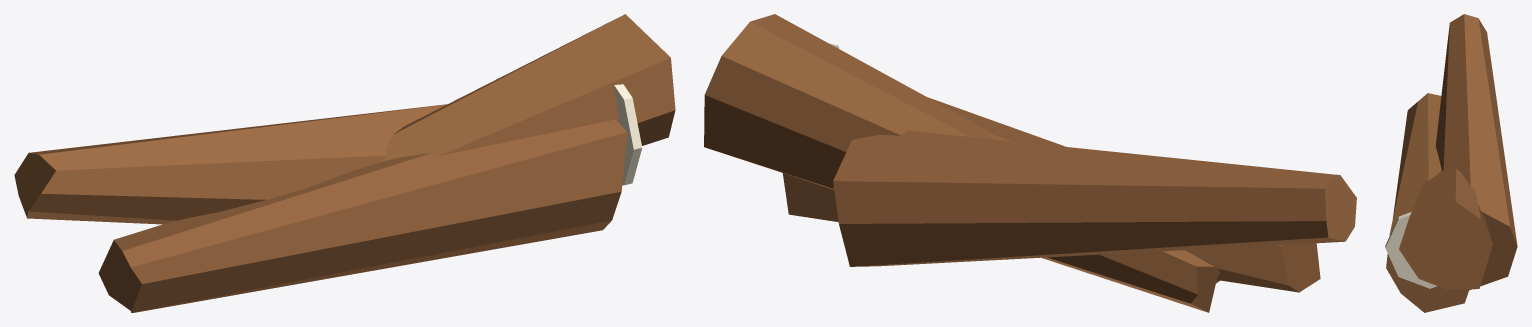
The model's file is cassava_item.obj.
3 renders of one model, left to right at view 1: azimuth 30°, elevation 25°; view 2: azimuth 150°, elevation 25°; view 3: azimuth 270°, elevation 25°, orthographic. The views are drawn at different scales.
Parts seen in each view (by area): view 1: item; view 2: item; view 3: item.
Part boxes in pixels (bbox=[...]): item: bbox=[14, 14, 675, 312]; item: bbox=[704, 14, 1356, 312]; item: bbox=[1385, 14, 1517, 312].
Size of the model in its own units: 0.7313 by 0.2231 by 0.2003.
